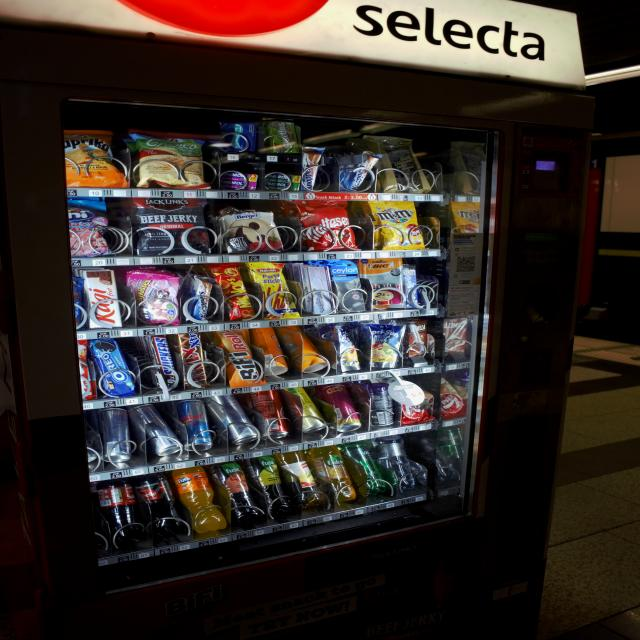airwaves_menthoneucalyptus_riegel_14_1_50173167: (229, 121, 255, 152)
berger_spitzbueb___: (219, 205, 286, 252)
bifi_roll__50__4251097402635: (212, 328, 264, 386)
caferoyal_classicmacchiato__33__7617014164487: (361, 381, 395, 425)
caprisun_multivitamin__20__4000177605004: (364, 323, 405, 368)
coke__dose_33__54491472: (252, 390, 288, 436)
coke__flasche_50__54491472: (99, 478, 141, 548)
coke_zero_flasche_50__5449000131836: (139, 474, 181, 540)
fanta___50__40822938: (170, 468, 227, 533)
fini_galaxymix_packung_100_1_8410525150364: (68, 196, 114, 256)
fini_jellykisses_packung_80_1_8410525116704: (132, 272, 180, 324)
fuse_lemon__50__5449000235947: (243, 456, 298, 521)
fuse_lemon_dose_33__5449000235947: (294, 388, 322, 434)
fuse_peach__50__5449000236623: (210, 464, 262, 525)
jacklinks_beefjerkyorginal__25__4047751730219: (132, 195, 215, 255)
kagi___50__7610046000259: (81, 270, 123, 329)
knoppers_riegel____4035800488808: (348, 148, 380, 194), (188, 276, 216, 324), (297, 144, 325, 191)
lorenz_nicnacs__40__4018077798818: (206, 262, 258, 320)
malburner_partysticks__40__7610200279682: (248, 261, 301, 317)
maltesers___100__5000159023061: (294, 198, 360, 248)
mnms_gelb__45__40111445: (366, 199, 429, 249)
oreo___66__84100733: (86, 338, 142, 396)
redbull___33__90162909: (136, 405, 184, 458), (98, 406, 139, 466)
redbull_light__33__90162800: (174, 399, 217, 453)
skittles_sour_riegel_51_1_: (267, 120, 299, 154)
snickers___50__5000159461122: (146, 334, 184, 390)
stimorol_spearmint_riegel_14_1_: (260, 171, 294, 191)
stimorol_wildcherry_riegel_14_1_57060330: (222, 170, 256, 192)
tiki_himbeerbrause_dose_33_1_: (322, 383, 361, 429)
twix___50__5000159459228: (173, 332, 213, 388)
valser_classic__50__76404160: (337, 438, 390, 498)
valser_still__50__7610335002575: (382, 431, 418, 491)
volvic_pinapple__50__305764335648: (305, 442, 362, 504)
zweifel_graneochilli__100__7610095184009: (124, 128, 218, 191)
zweifel_paprika__90__7610095013002: (50, 126, 128, 192)
